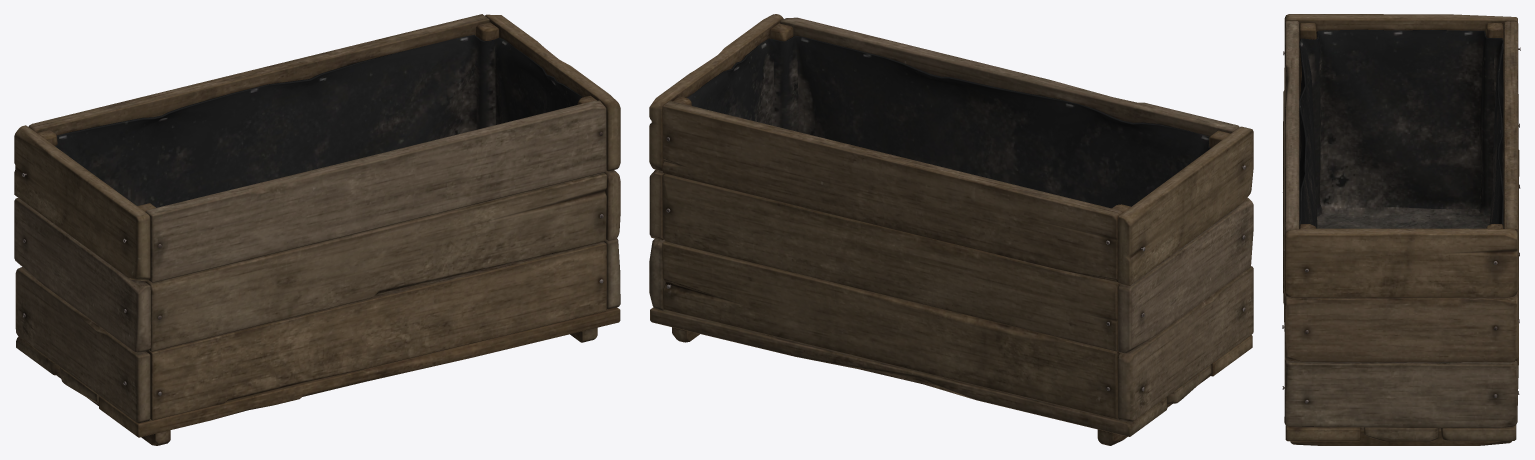
The model's file is planter_box_01.gltf.
3 views of the same model, side by side, from view 1: azimuth 30°, elevation 25°; view 2: azimuth 150°, elevation 25°; view 3: azimuth 270°, elevation 25° (orthographic). The views are drawn at different scales.
Parts seen in each view (by area): view 1: planter_box_01; view 2: planter_box_01; view 3: planter_box_01.
Part boxes in pixels (x1,y1,x2,y2): planter_box_01: (14, 14, 620, 445); planter_box_01: (649, 14, 1253, 445); planter_box_01: (1282, 14, 1520, 445).
Size of the model in its own units: 0.9126 by 0.425 by 0.4137.
1 material, 1 textured.
